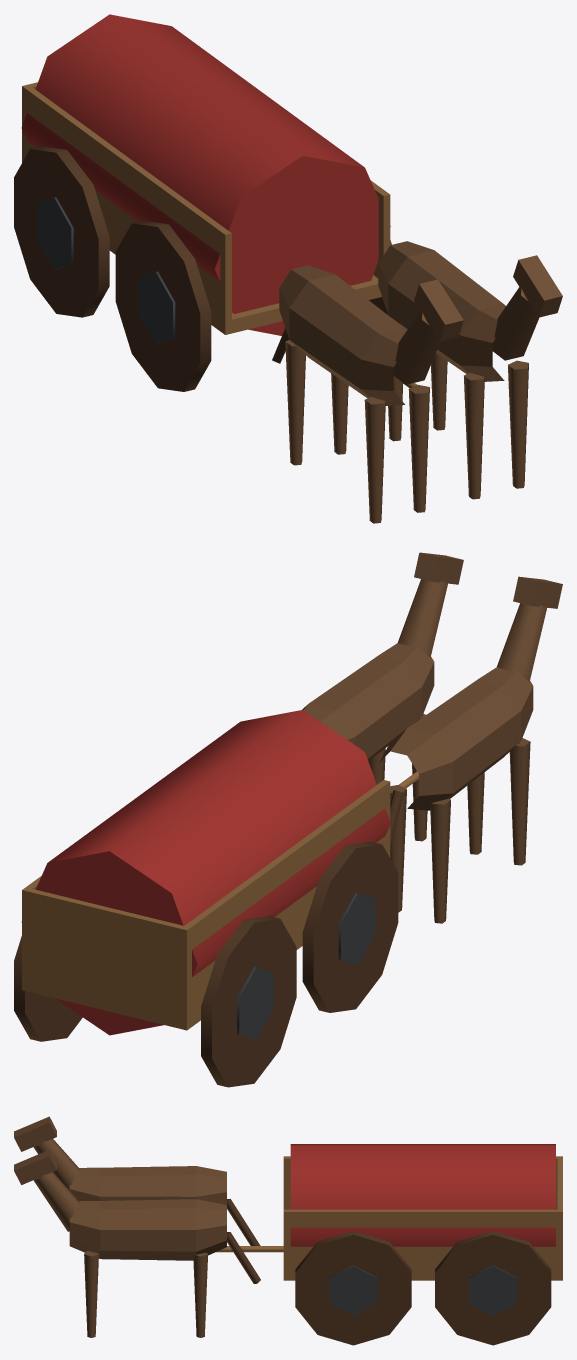
Rendered from veh_ground_caravan_a03.glb.
The picture shows the model from 3 angles, top to bottom: view 1: azimuth 30°, elevation 25°; view 2: azimuth 150°, elevation 25°; view 3: azimuth 270°, elevation 25°; orthographic projection. The views are drawn at different scales.
Parts seen in each view (by area): view 1: body, animal_0, animal_1, wheel_2, wheel_0; view 2: body, animal_0, animal_1, wheel_2, wheel_0, wheel_1; view 3: body, animal_1, wheel_1, wheel_3, animal_0.
Part boxes in pixels (box(x1,y1,x2,y2)): body: box(21, 14, 416, 388); animal_0: box(272, 265, 463, 523); animal_1: box(378, 241, 562, 499); wheel_2: box(115, 220, 211, 391); wheel_0: box(14, 146, 109, 317); body: box(21, 710, 418, 1035); animal_0: box(379, 576, 562, 923); animal_1: box(302, 552, 463, 841); wheel_2: box(302, 841, 398, 1012); wheel_0: box(201, 916, 296, 1087); wheel_1: box(14, 936, 82, 1041); body: box(216, 1144, 562, 1280); animal_1: box(14, 1150, 260, 1337); wheel_1: box(435, 1231, 551, 1345); wheel_3: box(295, 1231, 411, 1345); animal_0: box(14, 1116, 260, 1245).
Size of what is drawn, in the model's own units: 1.84 by 2.23 by 6.29.
